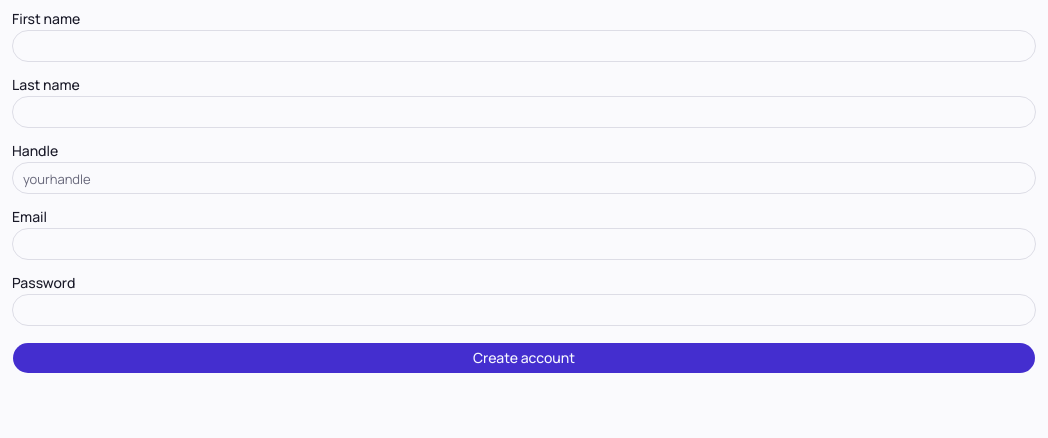
Scenario: SignupForm › shows a validation error for a short password and does not submit
Type "Alice" into the field labelled "First name" at coordinates (524, 46), box left=12, top=30, right=1036, bottom=62
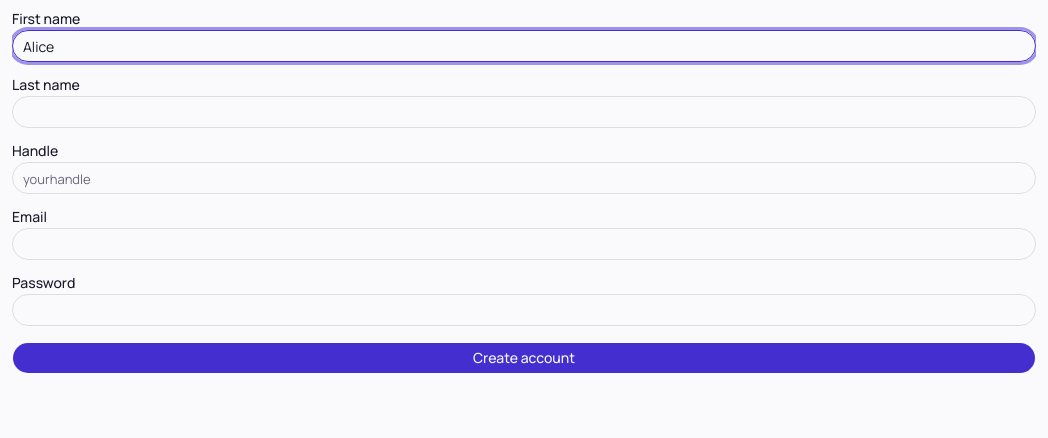
Type "Lee" into the field labelled "Last name" at coordinates (524, 112), box left=12, top=96, right=1036, bottom=128
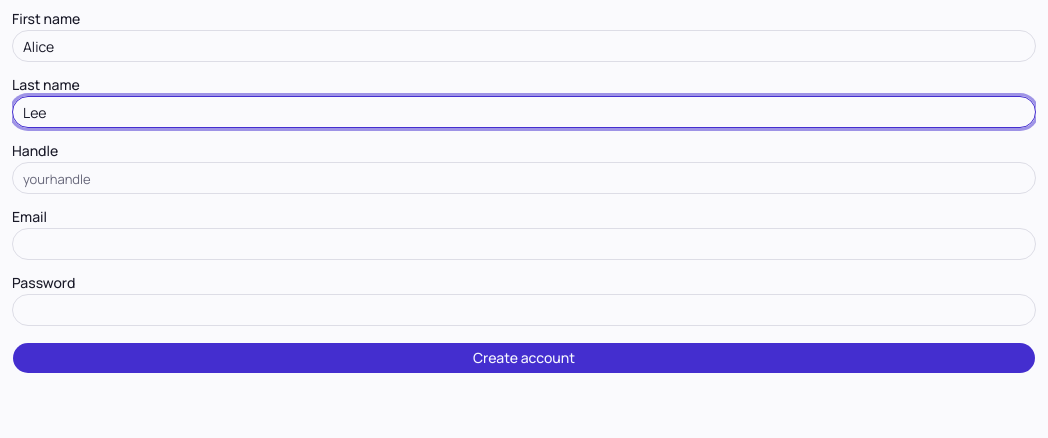
Type "alice@example.com" into the field labelled "Email" at coordinates (524, 244), box left=12, top=228, right=1036, bottom=260
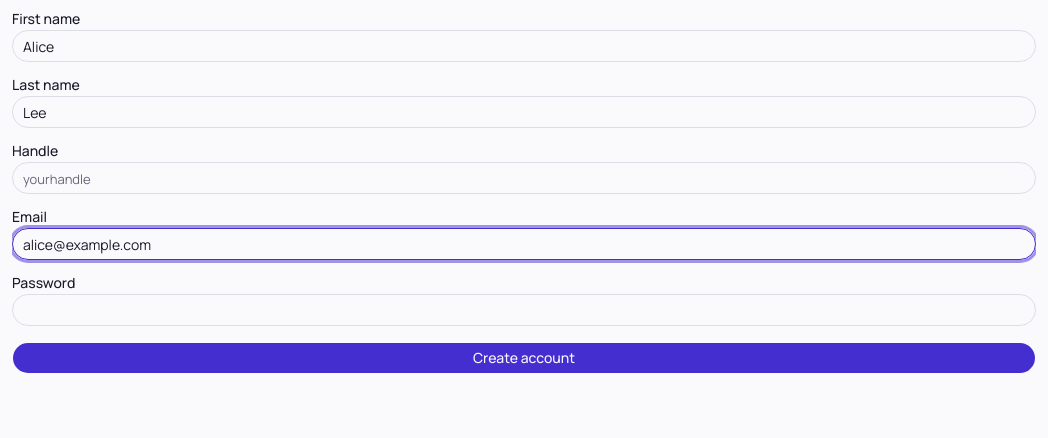
Type "short" into the password field labelled "Password" at coordinates (524, 310), box left=12, top=294, right=1036, bottom=326
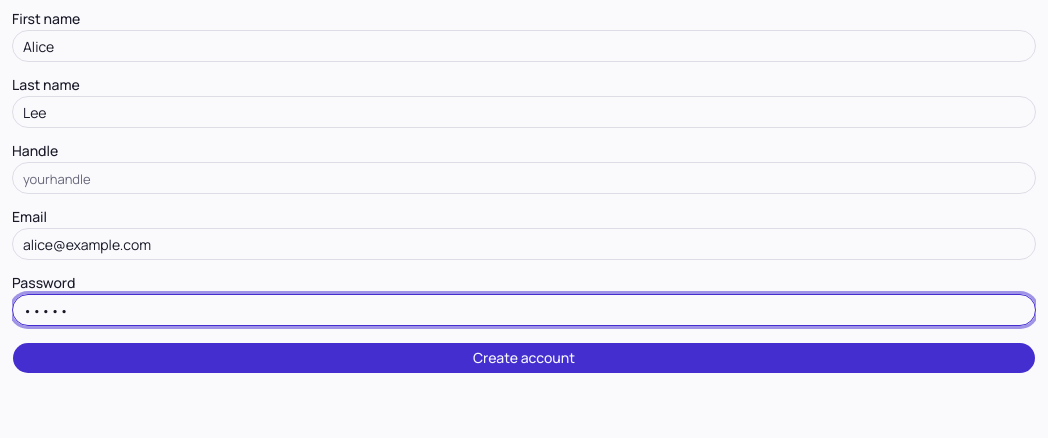
Click the button "Create account" at coordinates (524, 358), box left=12, top=342, right=1036, bottom=374
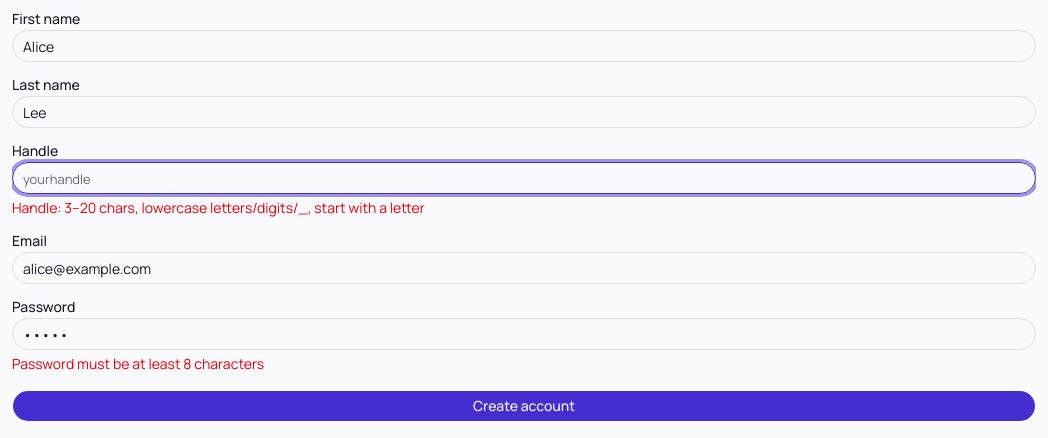
Expected: the text "Password must be at least 8 characters" is shown, left=12, top=354, right=264, bottom=373
